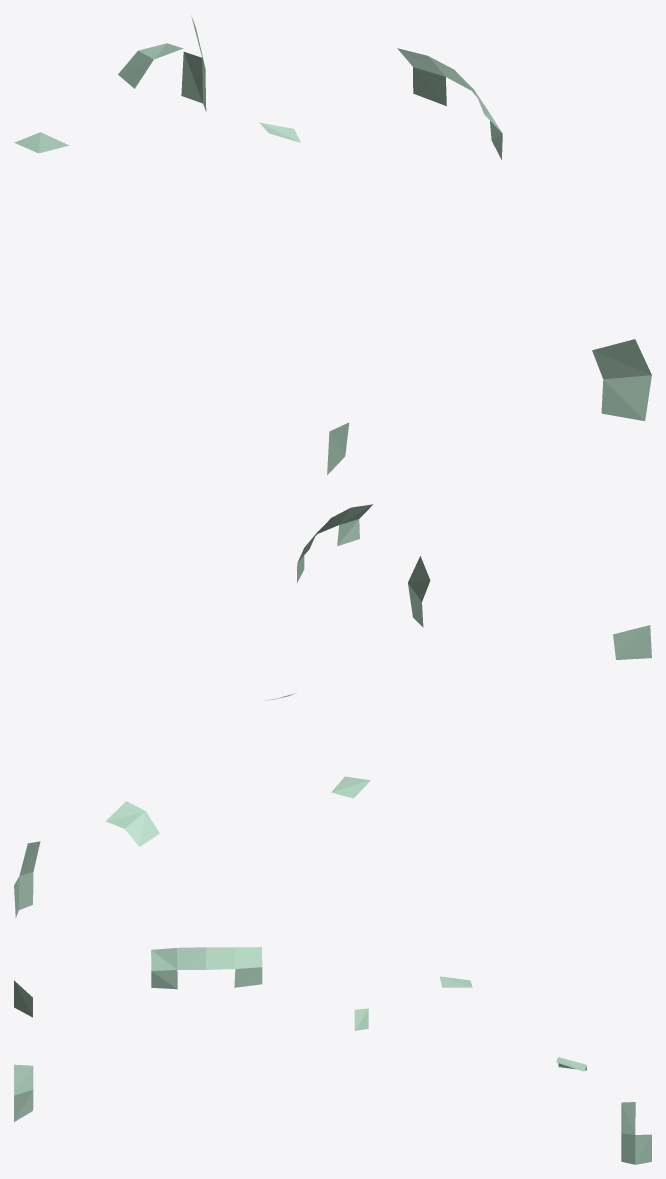
Rendered from robot-grid-candidates.glb.
The picture shows the model from 3 angles, top to bottom: view 1: azimuth 30°, elevation 25°; view 2: azimuth 150°, elevation 25°; view 3: azimuth 270°, elevation 25°; orthographic projection. The views are drawn at different scales.
Parts seen in each view (by area): view 1: 199 candidate points and16 observed quads; view 2: 199 candidate points and16 observed quads; view 3: 199 candidate points and16 observed quads.
Boxes of the visible parts, x1,y1,x2,y2 form: 199 candidate points and16 observed quads: [14, 15, 651, 474]; 199 candidate points and16 observed quads: [14, 504, 651, 918]; 199 candidate points and16 observed quads: [14, 947, 651, 1164].
Size of the model in its own units: 0.4408 by 0.3498 by 1.05.
